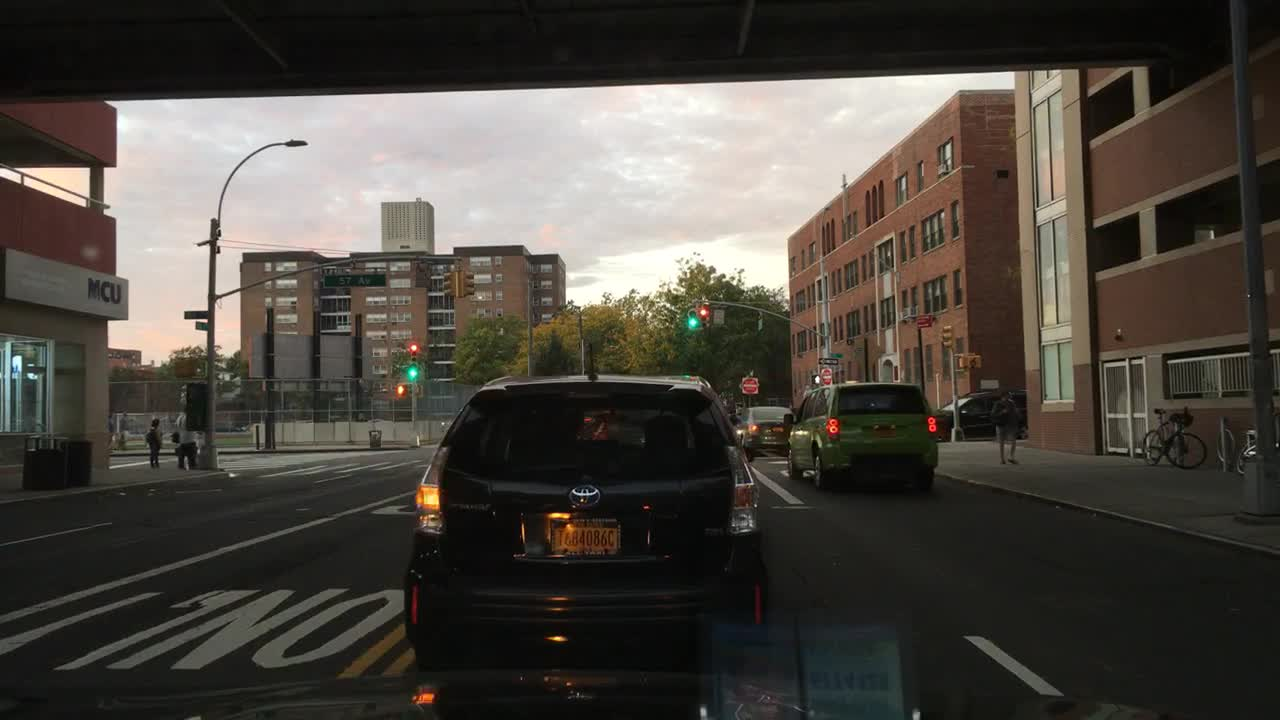bike: (1139, 404, 1207, 469), (1235, 424, 1278, 476)
car: (402, 339, 765, 671), (785, 378, 940, 488), (931, 387, 1028, 440), (731, 405, 799, 461)
person: (990, 390, 1022, 464), (175, 406, 196, 469), (144, 417, 162, 468), (115, 410, 132, 450)
traffic light: (173, 357, 197, 378), (957, 352, 982, 370), (443, 271, 459, 299), (460, 271, 474, 298), (686, 308, 699, 330), (941, 324, 952, 350), (408, 343, 418, 367), (395, 382, 409, 397), (700, 307, 709, 329), (810, 375, 821, 384), (408, 367, 417, 377)
traffic sign: (251, 330, 375, 382), (321, 272, 386, 287), (741, 375, 757, 393), (182, 310, 208, 318), (916, 314, 932, 326), (816, 357, 838, 365), (821, 367, 831, 384), (713, 308, 724, 323), (195, 320, 207, 331), (829, 352, 843, 357), (757, 318, 762, 330)
